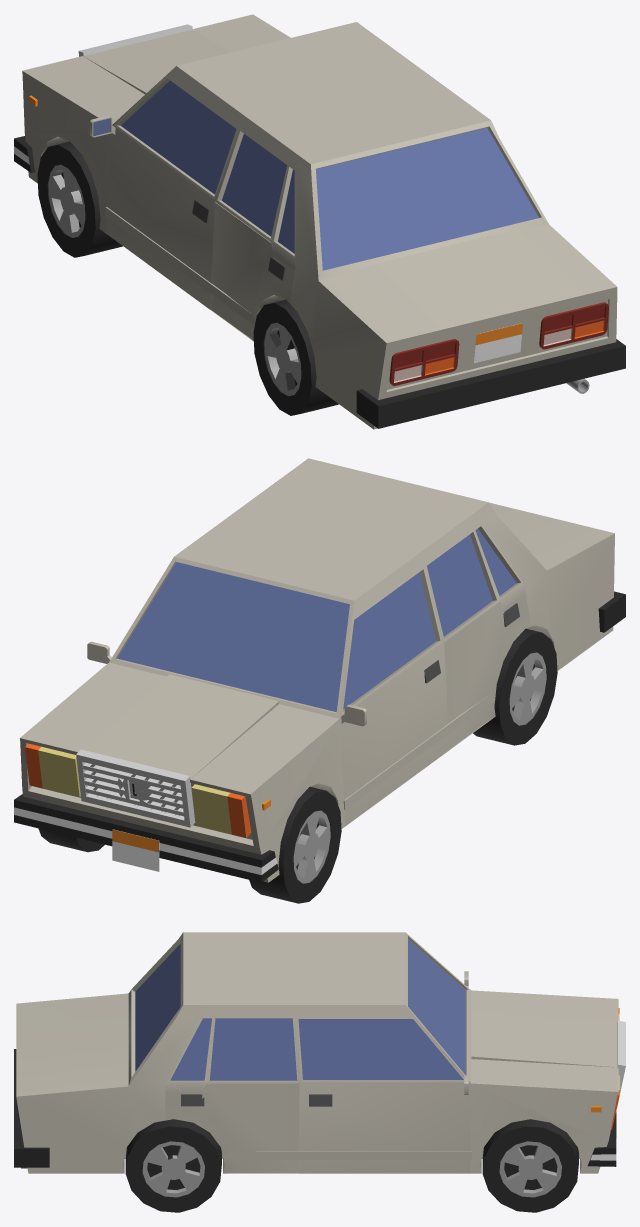
File: lada-car.glb
3 views of the same model, one above another, from view 1: azimuth 30°, elevation 25°; view 2: azimuth 150°, elevation 25°; view 3: azimuth 270°, elevation 25° (orthographic). The views are drawn at different scales.
Parts seen in each view (by area): view 1: body, wheel_RL, wheel_FL; view 2: body, wheel_FL, wheel_RL, wheel_FR; view 3: body, wheel_RR, wheel_FR.
Part boxes in pixels (x1=…): body: x1=14, y1=14, x2=625, y2=429; wheel_RL: x1=253, y1=300, x2=338, y2=415; wheel_FL: x1=37, y1=141, x2=122, y2=257; body: x1=14, y1=458, x2=625, y2=882; wheel_FL: x1=249, y1=787, x2=341, y2=903; wheel_RL: x1=473, y1=628, x2=557, y2=745; wheel_FR: x1=38, y1=828, x2=104, y2=852; body: x1=14, y1=932, x2=625, y2=1173; wheel_RR: x1=125, y1=1119, x2=221, y2=1212; wheel_FR: x1=482, y1=1119, x2=578, y2=1212.
Size of the model in its own units: 1.79 by 1.45 by 4.14.
2 materials, 1 textured.
